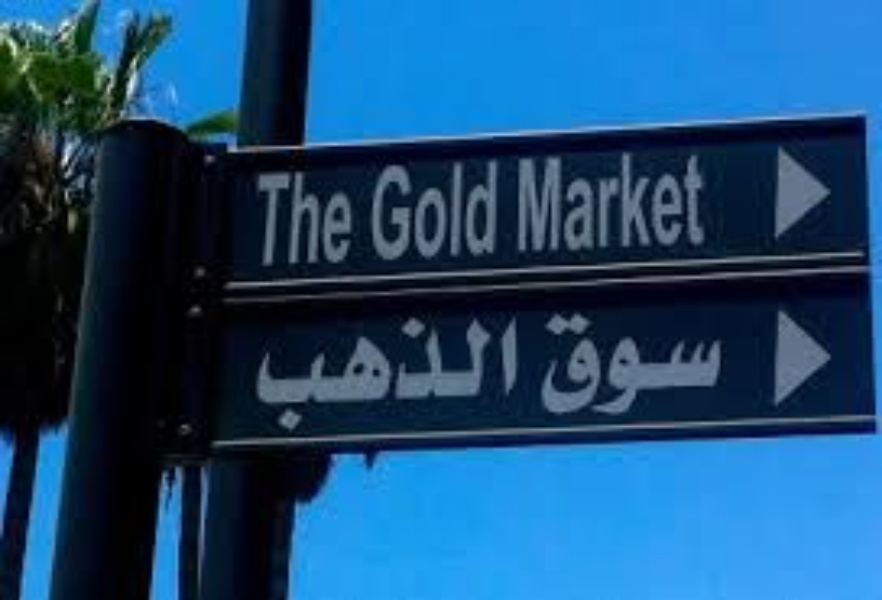text: (257, 312, 272, 435), (273, 312, 288, 435), (289, 312, 304, 435), (305, 312, 320, 435), (321, 312, 336, 435), (337, 312, 352, 435), (353, 312, 368, 435), (369, 312, 384, 435), (385, 312, 400, 435), (401, 312, 416, 435), (417, 312, 432, 435), (433, 312, 448, 435), (449, 312, 464, 435), (465, 312, 480, 435), (481, 312, 496, 435), (497, 312, 512, 435), (545, 309, 560, 419), (561, 309, 576, 419), (577, 309, 592, 419), (593, 309, 608, 419), (609, 309, 624, 419), (625, 309, 640, 419), (641, 309, 656, 419), (657, 309, 672, 419), (673, 309, 688, 419), (689, 309, 704, 419), (705, 309, 720, 419), (513, 150, 528, 257), (529, 150, 544, 257), (545, 150, 560, 257), (561, 150, 576, 257), (577, 150, 592, 257), (593, 150, 608, 257), (609, 150, 624, 257), (625, 150, 640, 257), (641, 150, 656, 257), (657, 150, 672, 257), (673, 150, 688, 257), (689, 150, 704, 257), (369, 159, 384, 263), (385, 159, 400, 263), (401, 159, 416, 263), (417, 159, 432, 263), (433, 159, 448, 263), (449, 159, 464, 263), (465, 159, 480, 263), (481, 159, 496, 263), (257, 169, 272, 266), (273, 169, 288, 266), (289, 169, 304, 266), (305, 169, 320, 266), (321, 169, 336, 266), (337, 169, 352, 266), (513, 312, 523, 435), (497, 159, 506, 263), (705, 150, 711, 257), (539, 309, 544, 419), (253, 312, 256, 435), (721, 309, 724, 419), (367, 159, 368, 263), (353, 169, 354, 266)
